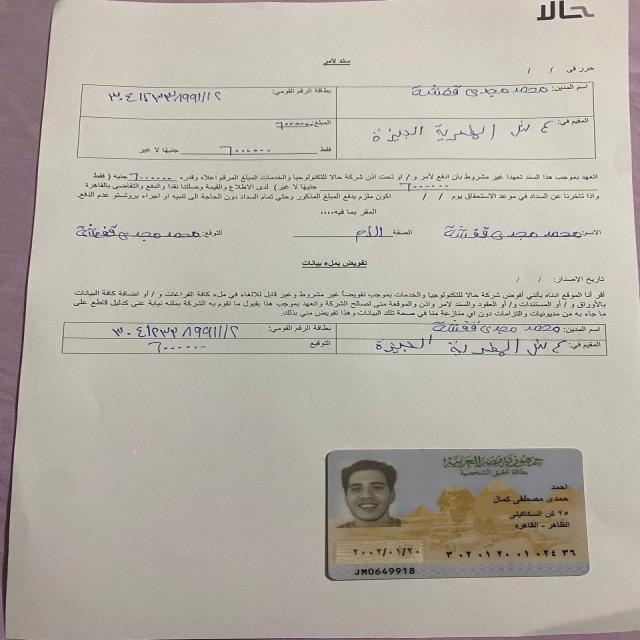id_card: (320, 446, 594, 585)
